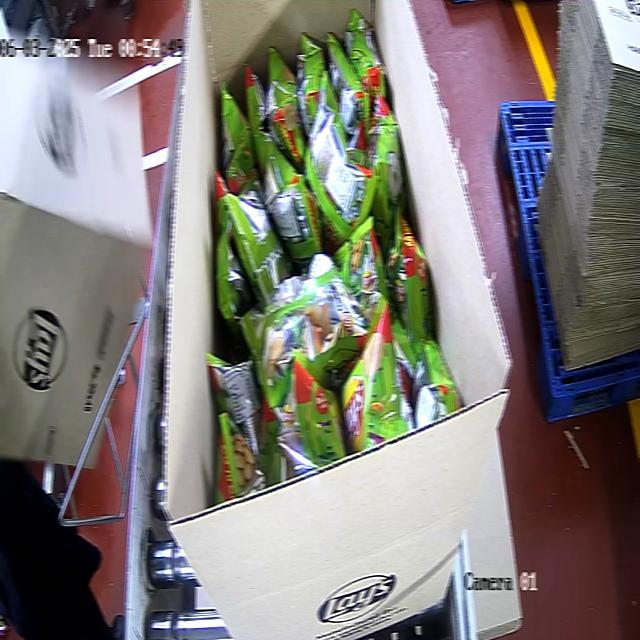YOGURT_HERB: (207, 7, 461, 500)
